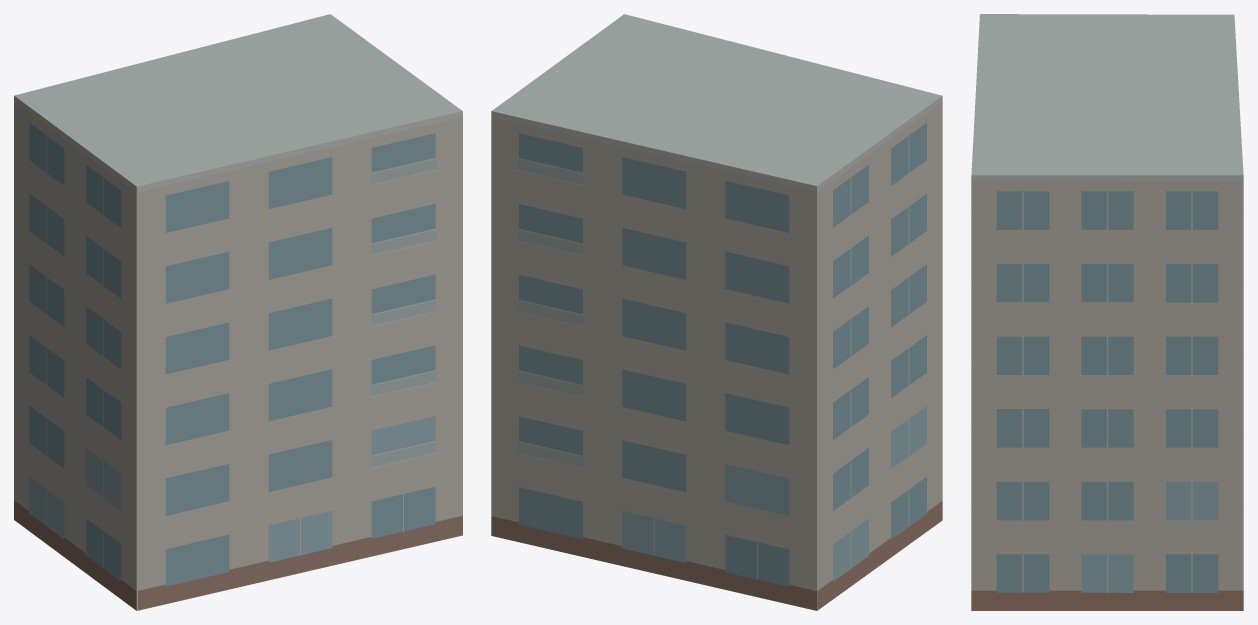
File: survey-upis-32527469.glb
3 views of the same model, side by side, from view 1: azimuth 30°, elevation 25°; view 2: azimuth 150°, elevation 25°; view 3: azimuth 270°, elevation 25° (orthographic). The views are drawn at different scales.
Visible parts, largest first — view 1: survey-upis-32527469.tmp; view 2: survey-upis-32527469.tmp; view 3: survey-upis-32527469.tmp.
Part boxes in pixels (x1,y1,x2,y2): survey-upis-32527469.tmp: (14, 14, 462, 610); survey-upis-32527469.tmp: (491, 14, 942, 610); survey-upis-32527469.tmp: (971, 14, 1243, 610).
Bounding box in the file's own units: 14.51 × 18.25 × 10.36.
